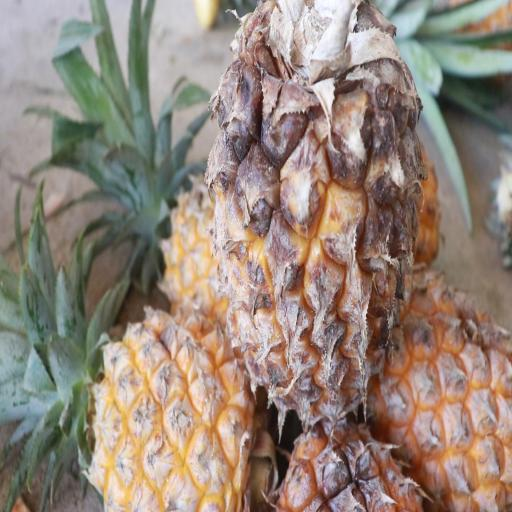Pineapple - v8 v1: (208, 0, 422, 440), (73, 294, 270, 512), (373, 270, 512, 507)
